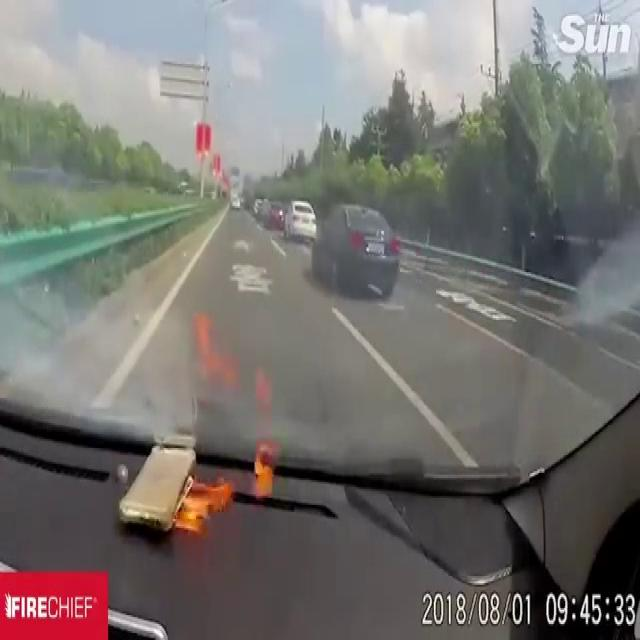fire: (172, 464, 243, 548)
